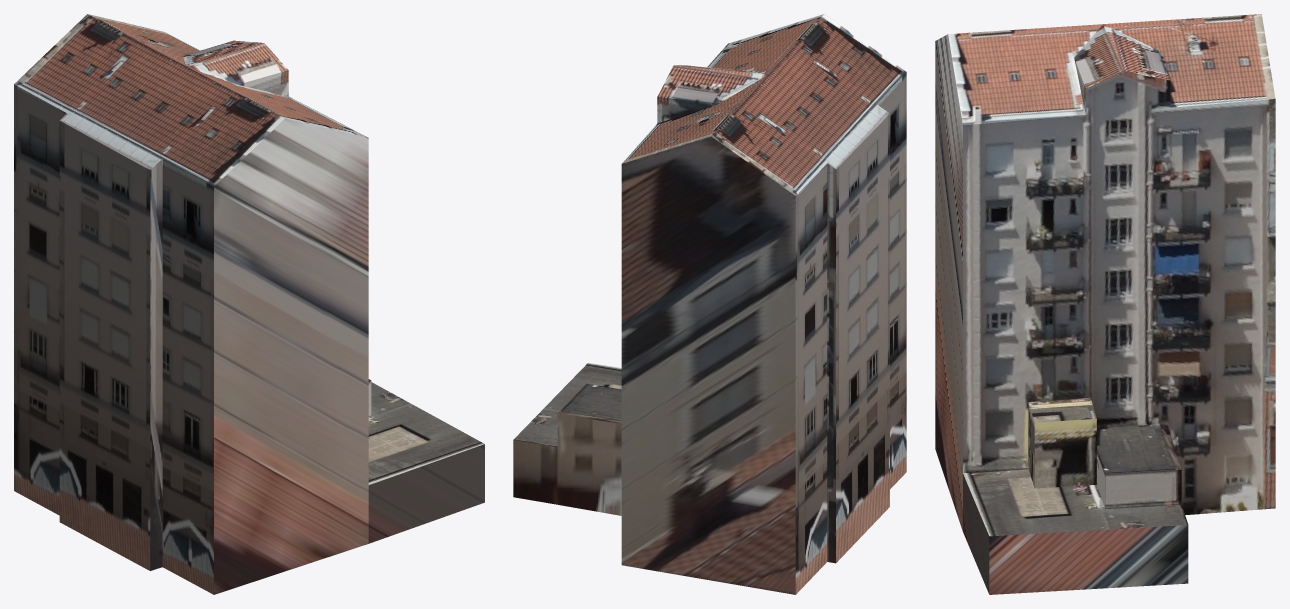
3 renders of one model, left to right at view 1: azimuth 30°, elevation 25°; view 2: azimuth 150°, elevation 25°; view 3: azimuth 270°, elevation 25°, orthographic. The views are drawn at different scales.
Parts seen in each view (by area): view 1: Z_UP; view 2: Z_UP; view 3: Z_UP.
Part boxes in pixels (box(x1,y1,x2,y2)): Z_UP: box(14, 14, 484, 594); Z_UP: box(513, 14, 906, 594); Z_UP: box(935, 14, 1275, 594).
Bounding box in the file's own units: 22.26 × 28.22 × 19.18.
2 materials, 1 textured.
